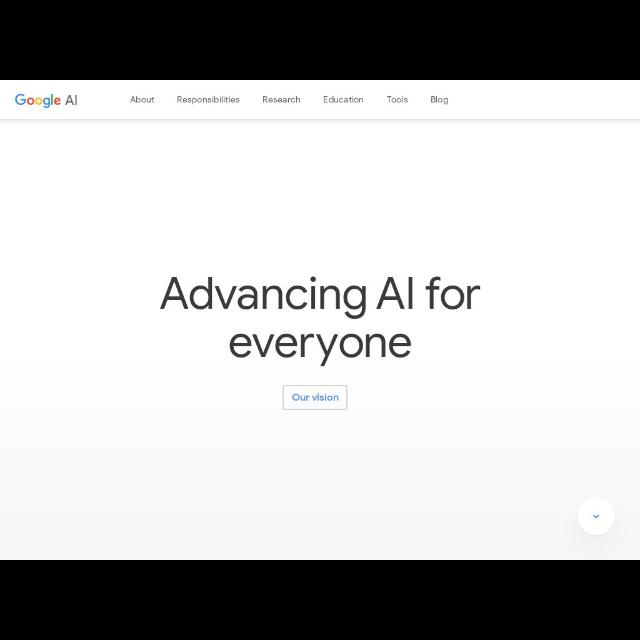button: (577, 496, 617, 536)
icon: (592, 511, 602, 523)
image: (10, 90, 80, 110)
text: (157, 274, 486, 318), (228, 330, 414, 368), (176, 95, 240, 107), (292, 392, 340, 404), (322, 94, 364, 106), (262, 94, 302, 106), (387, 94, 411, 106), (430, 94, 450, 106), (129, 96, 155, 104)
textbutton: (284, 386, 348, 409)
toolbar: (0, 80, 638, 120)
